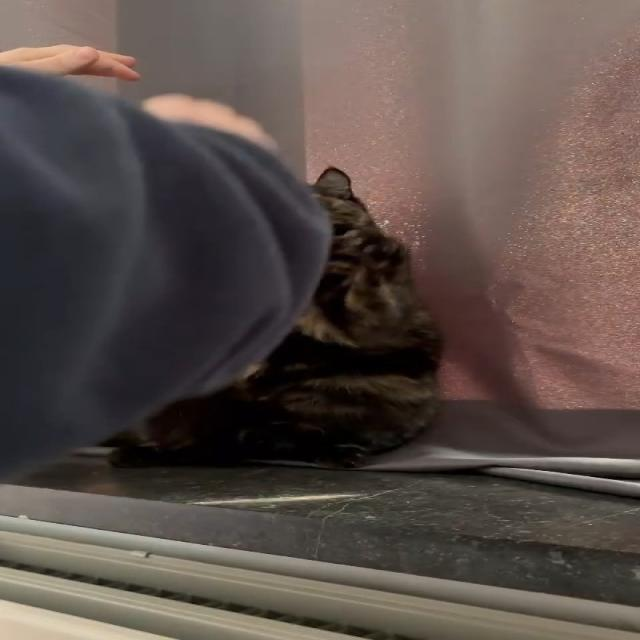authorized: (100, 164, 444, 470)
